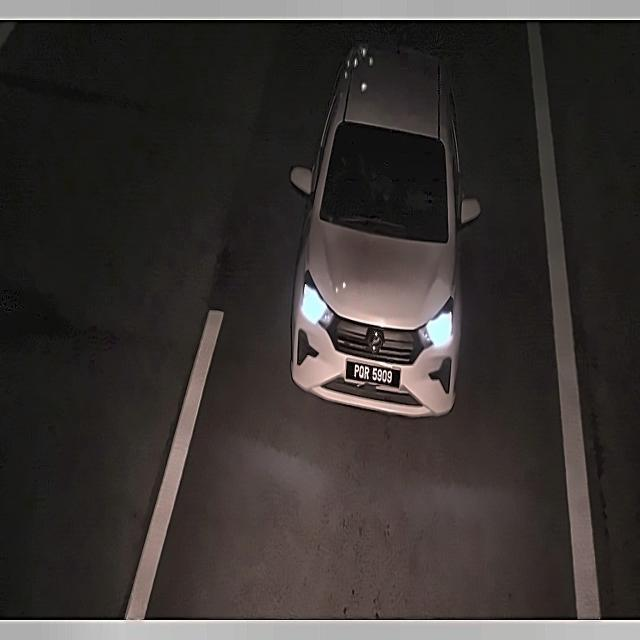car: (340, 350, 405, 396)
